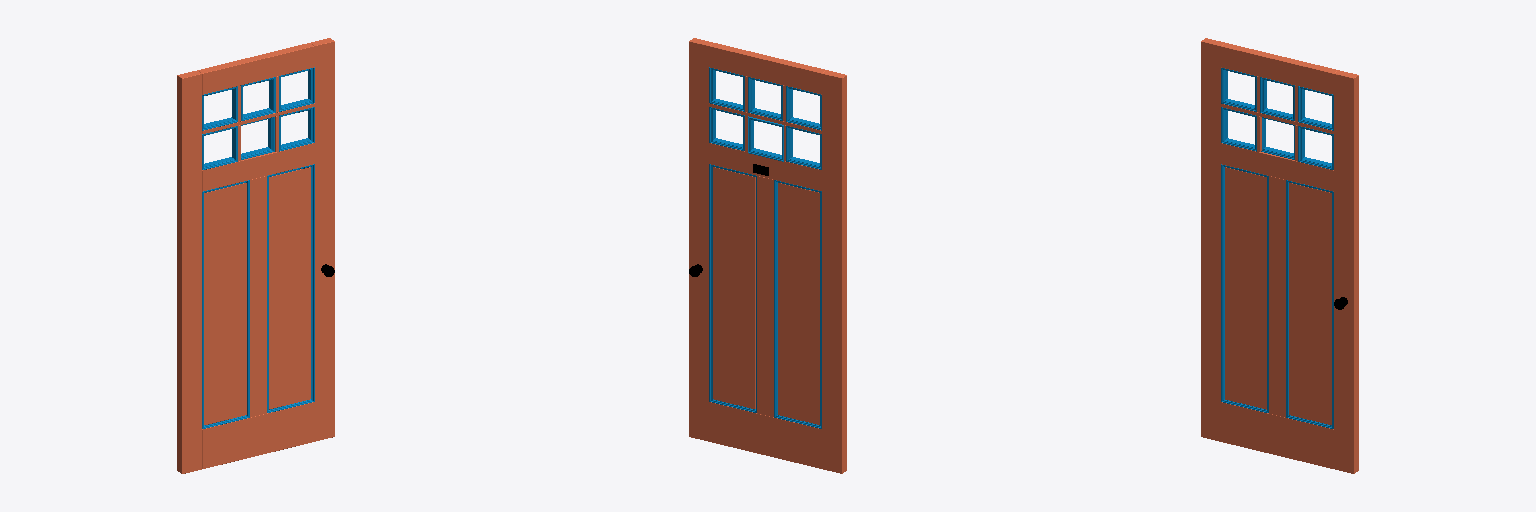
The picture shows the model from 3 angles: view 1: azimuth 30°, elevation 25°; view 2: azimuth 150°, elevation 25°; view 3: azimuth 330°, elevation 25°; orthographic projection.
Visible parts, largest first — view 1: polySurface19; view 2: polySurface19; view 3: polySurface19.
Boxes of the visible parts, x1,y1,x2,y2 form: polySurface19: [177, 38, 334, 473]; polySurface19: [689, 38, 846, 473]; polySurface19: [1201, 38, 1358, 473].
Size of the model in its own units: 2.22 by 5.48 by 0.4607.
Materials: 3 (2 with a texture image).